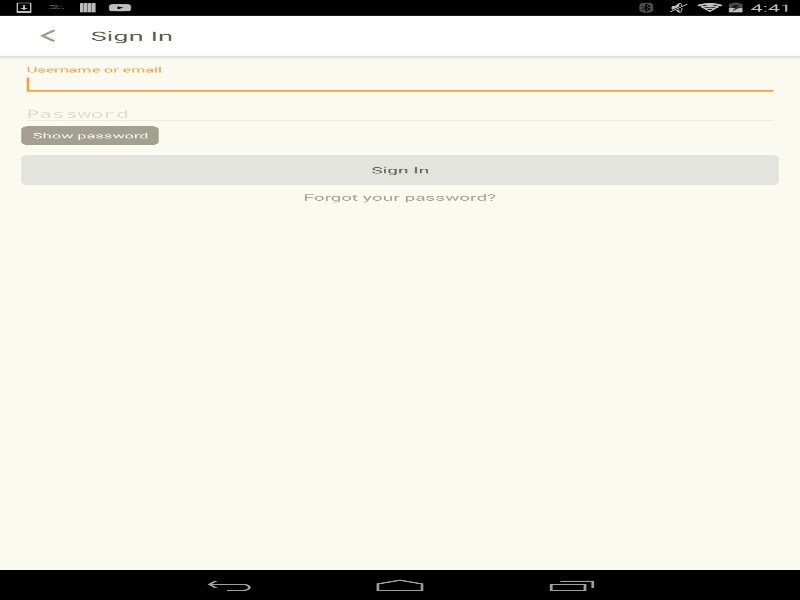Button: (21, 155, 778, 185), (10, 15, 85, 55), (21, 126, 158, 145)
Input: (21, 102, 778, 126), (21, 72, 778, 95)
